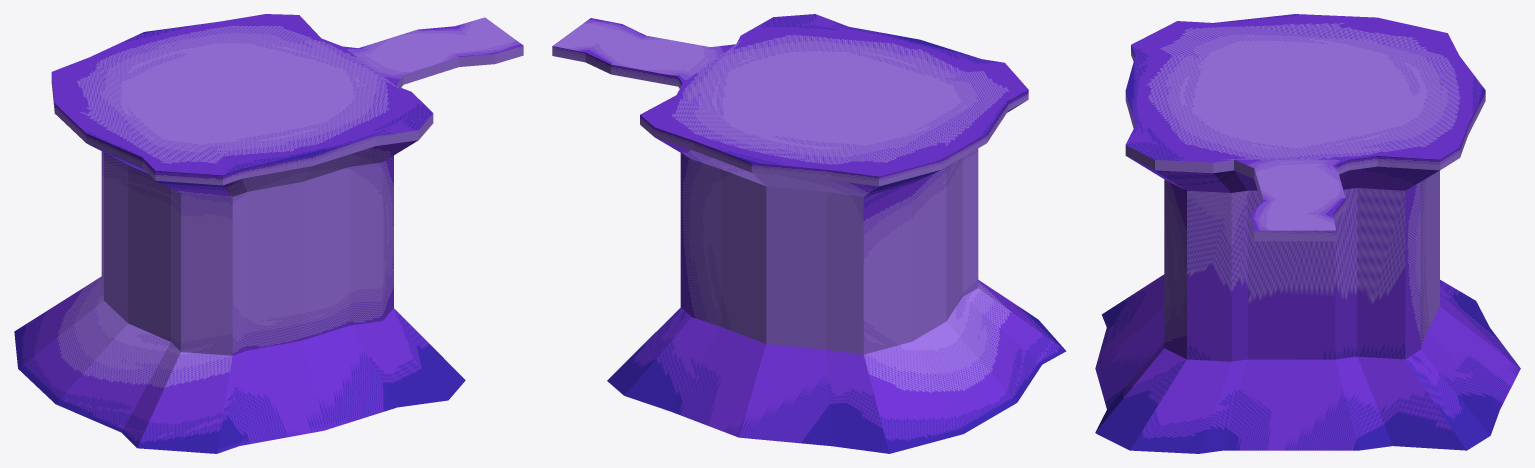
The model's file is MapaBOSS.glb.
3 views of the same model, side by side, from view 1: azimuth 30°, elevation 25°; view 2: azimuth 150°, elevation 25°; view 3: azimuth 270°, elevation 25° (orthographic). The views are drawn at different scales.
Visible parts, largest first — view 1: Caveboss; view 2: Caveboss; view 3: Caveboss.
Part boxes in pixels (left/top/right/bottom): Caveboss: left=14, top=14, right=523, bottom=453; Caveboss: left=552, top=14, right=1066, bottom=453; Caveboss: left=1095, top=14, right=1520, bottom=453.
Size of the model in its own units: 25.25 by 14.17 by 19.53.
1 material, 1 textured.
